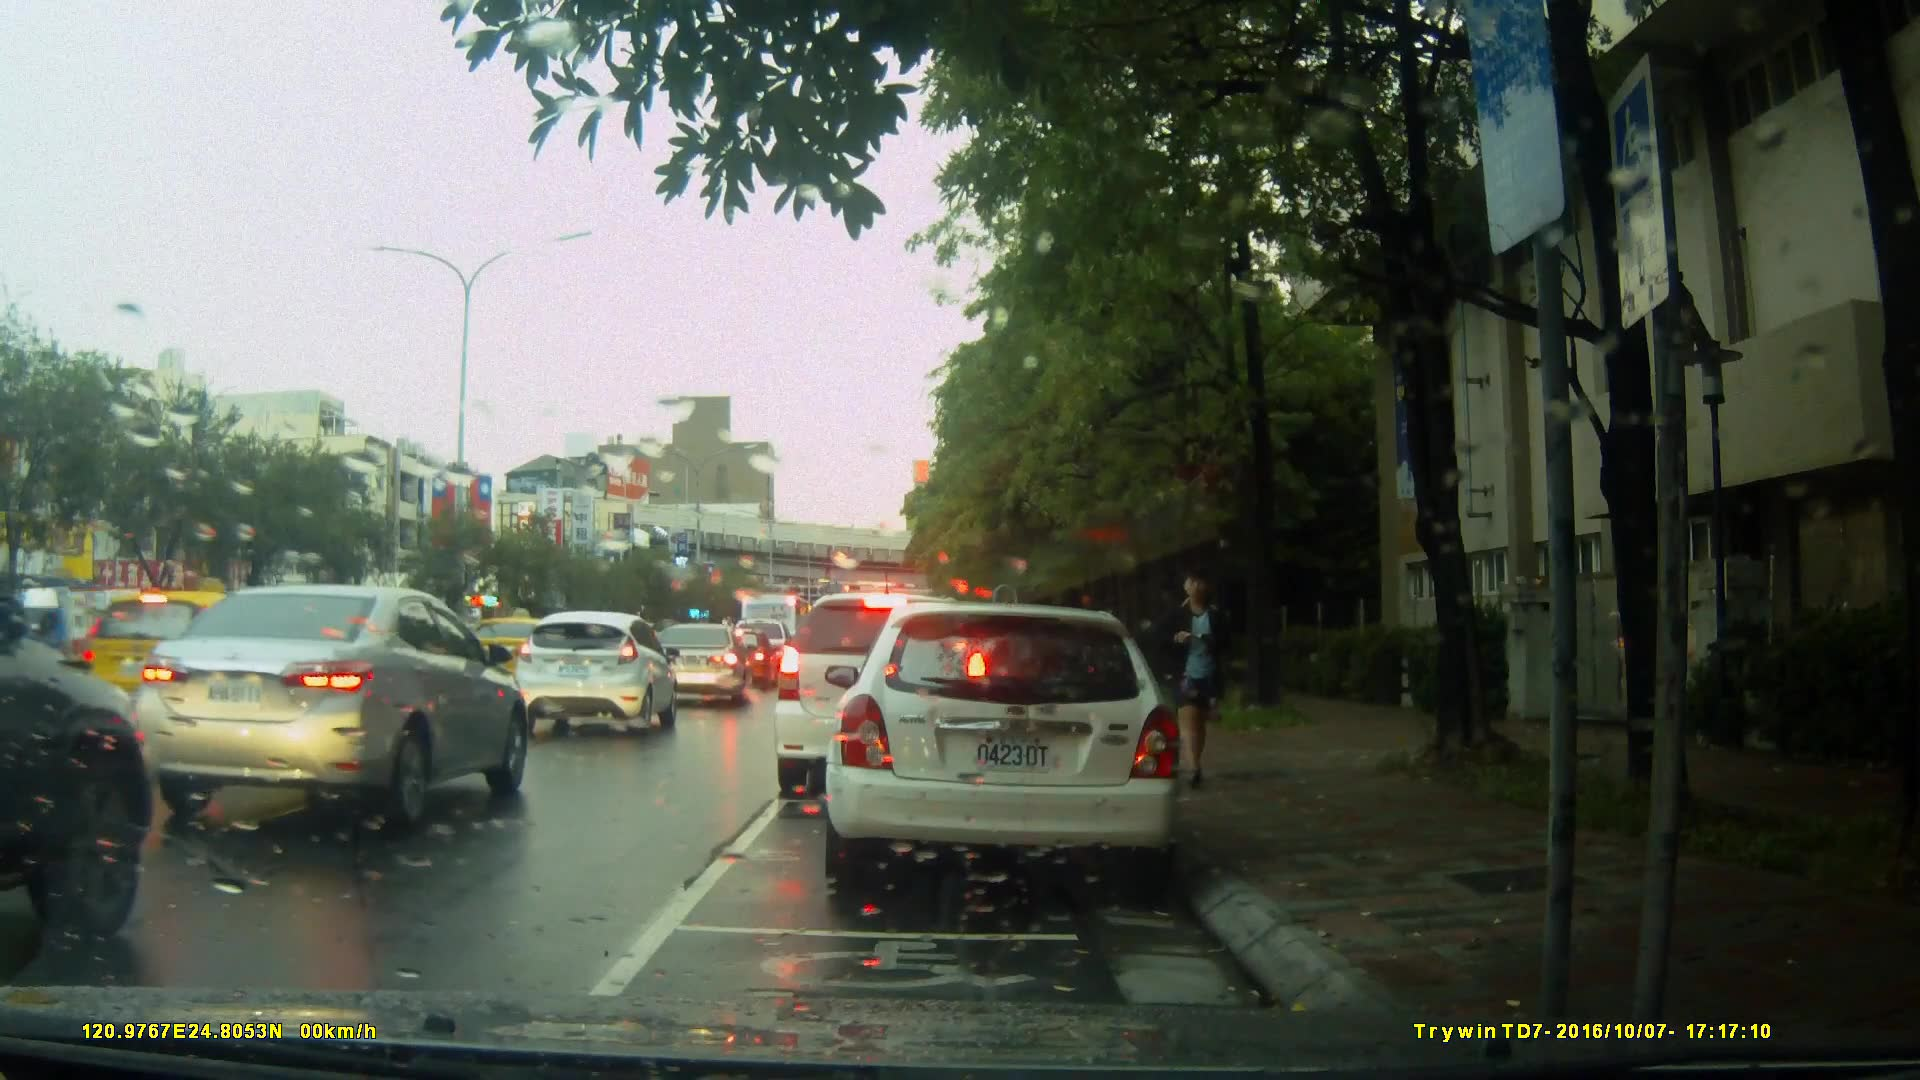pedestrian: (1155, 560, 1227, 751)
vehicle: (835, 594, 1194, 898), (130, 582, 536, 836), (776, 590, 1026, 784), (62, 581, 281, 767), (507, 610, 682, 733), (449, 615, 576, 704), (646, 621, 753, 709), (725, 578, 817, 659), (709, 629, 781, 689)
